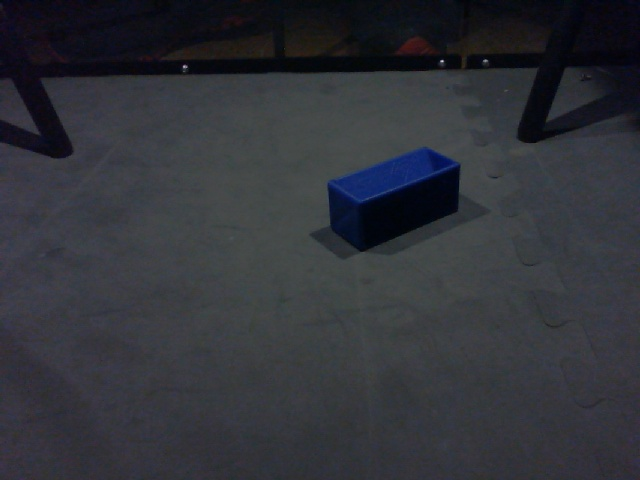BlueSample: (324, 142, 465, 255)
